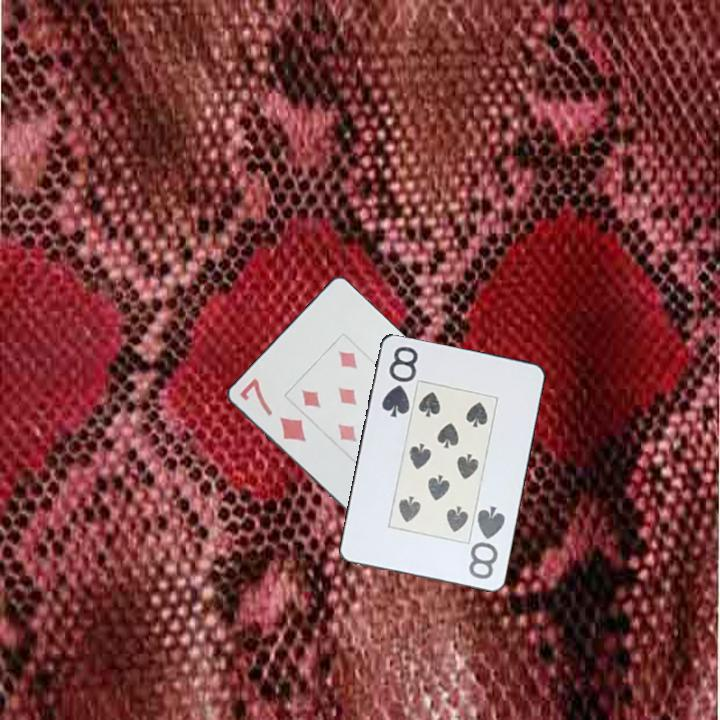7d: (236, 375, 309, 445)
8s: (465, 502, 508, 582), (378, 342, 420, 420)
